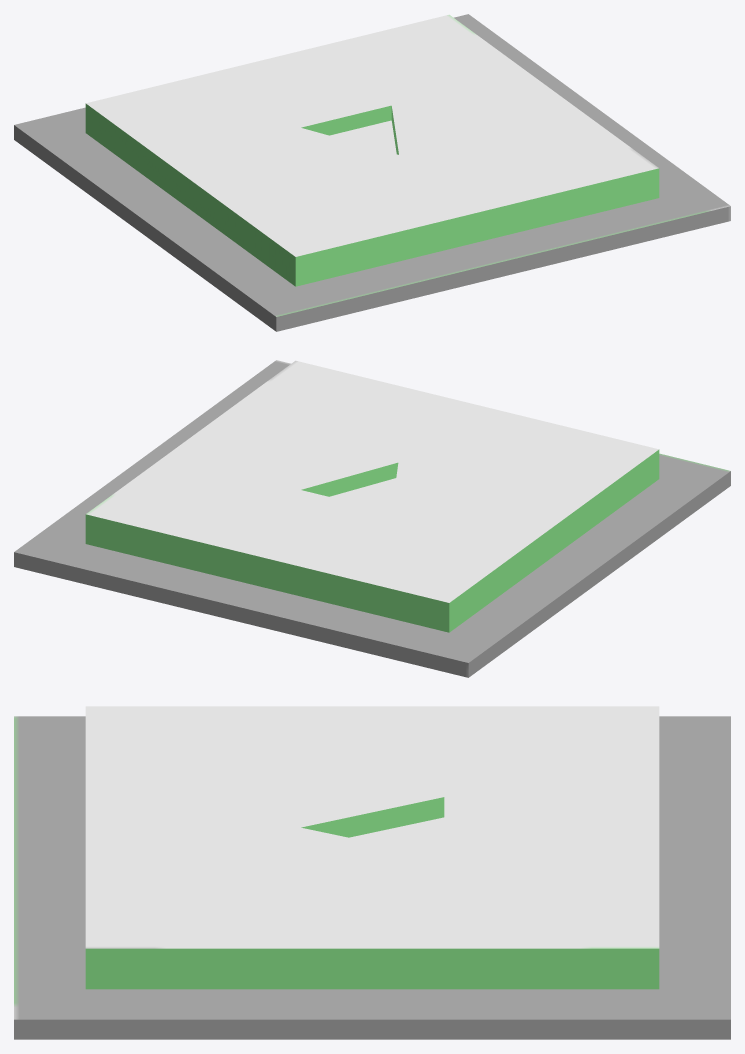
Rendered from triangle_switch.glb.
3 views of the same model, one above another, from view 1: azimuth 30°, elevation 25°; view 2: azimuth 150°, elevation 25°; view 3: azimuth 270°, elevation 25° (orthographic). The views are drawn at different scales.
Parts seen in each view (by area): view 1: Triangle_Switch; view 2: Triangle_Switch; view 3: Triangle_Switch.
Boxes of the visible parts, x1,y1,x2,y2 form: Triangle_Switch: [14, 14, 730, 331]; Triangle_Switch: [14, 360, 730, 677]; Triangle_Switch: [14, 706, 730, 1039].
Size of what is drawn, in the model's own units: 1.6 by 0.15 by 1.6.
Materials: 1 (1 with a texture image).
